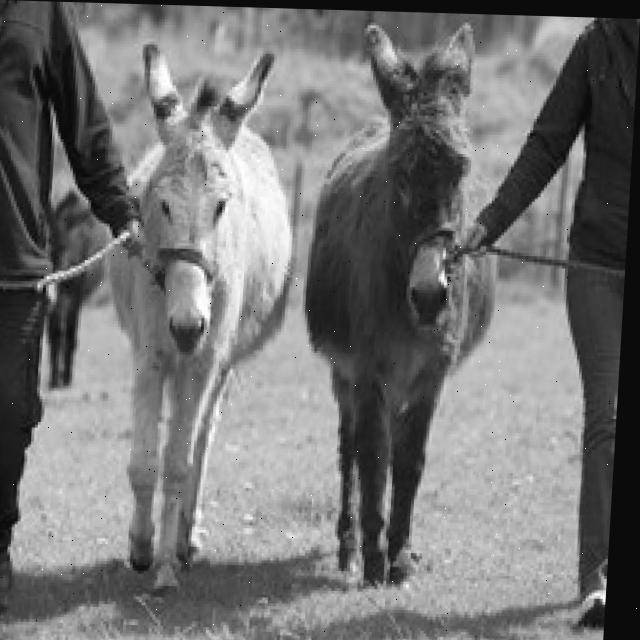Donkey: (286, 15, 511, 592), (85, 38, 307, 601), (37, 187, 115, 389)
